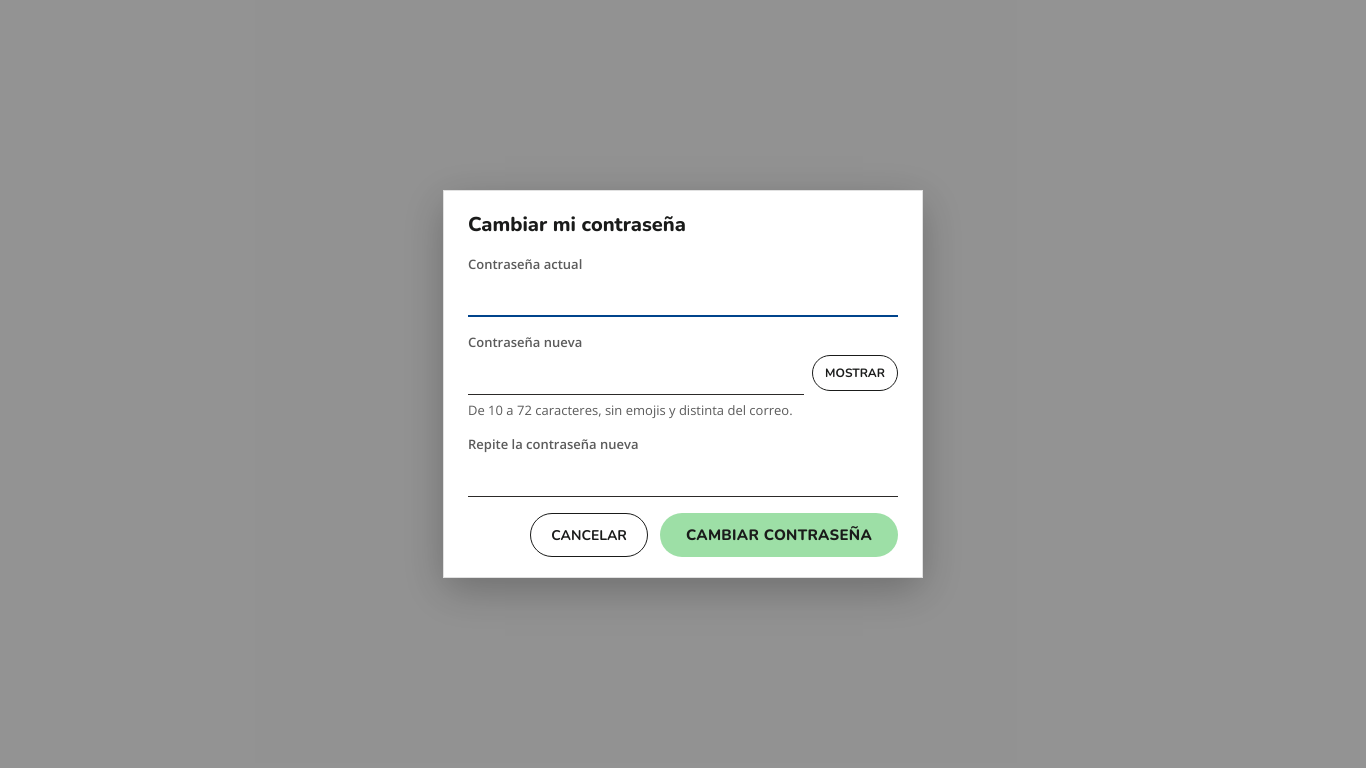
Test: ChangePasswordDialog › aplica la política a la contraseña nueva
The image size is (1366, 768).
Type "actual-clave-1" into the password field labelled "Contraseña actual".
click(683, 295); type("actual-clave-1")  # box [468, 273, 898, 317]
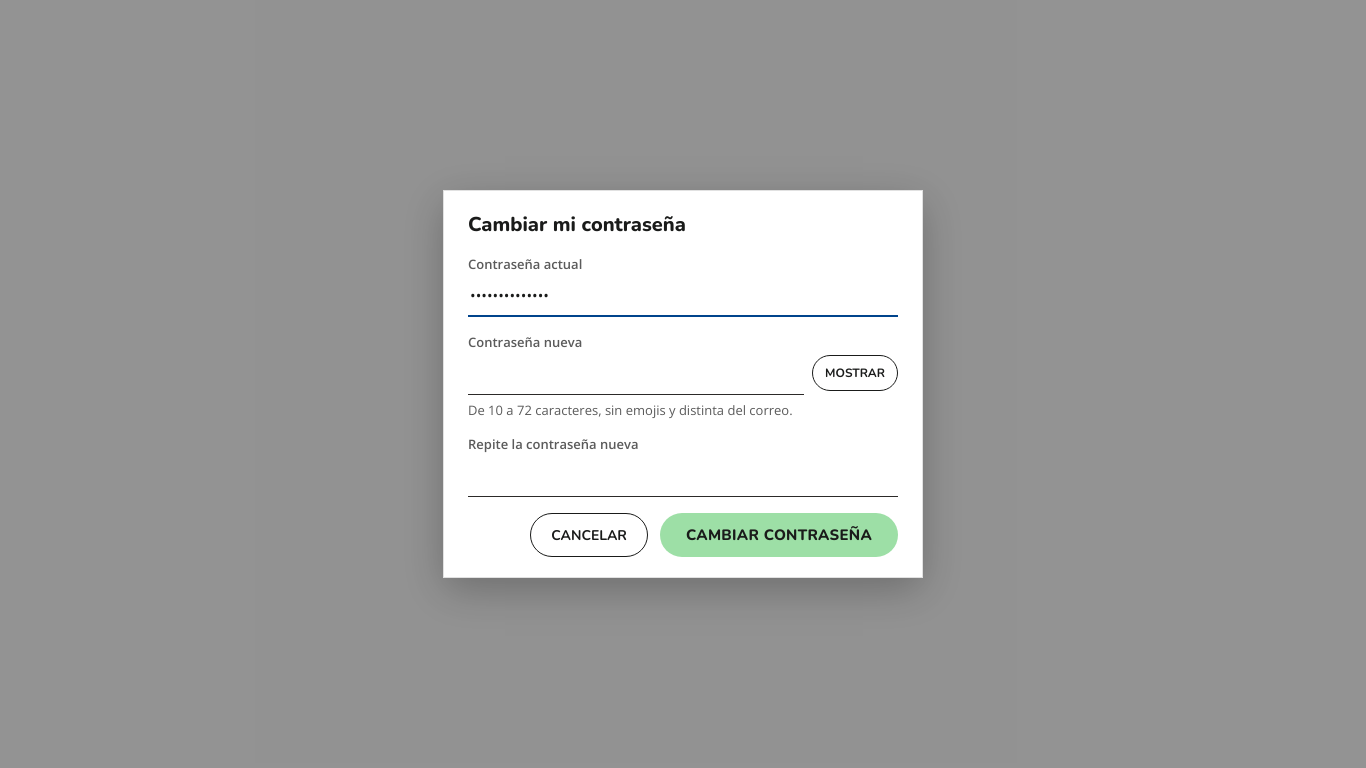
Type "corta" into the password field labelled "Contraseña nueva".
click(636, 373); type("corta")  # box [468, 351, 804, 395]
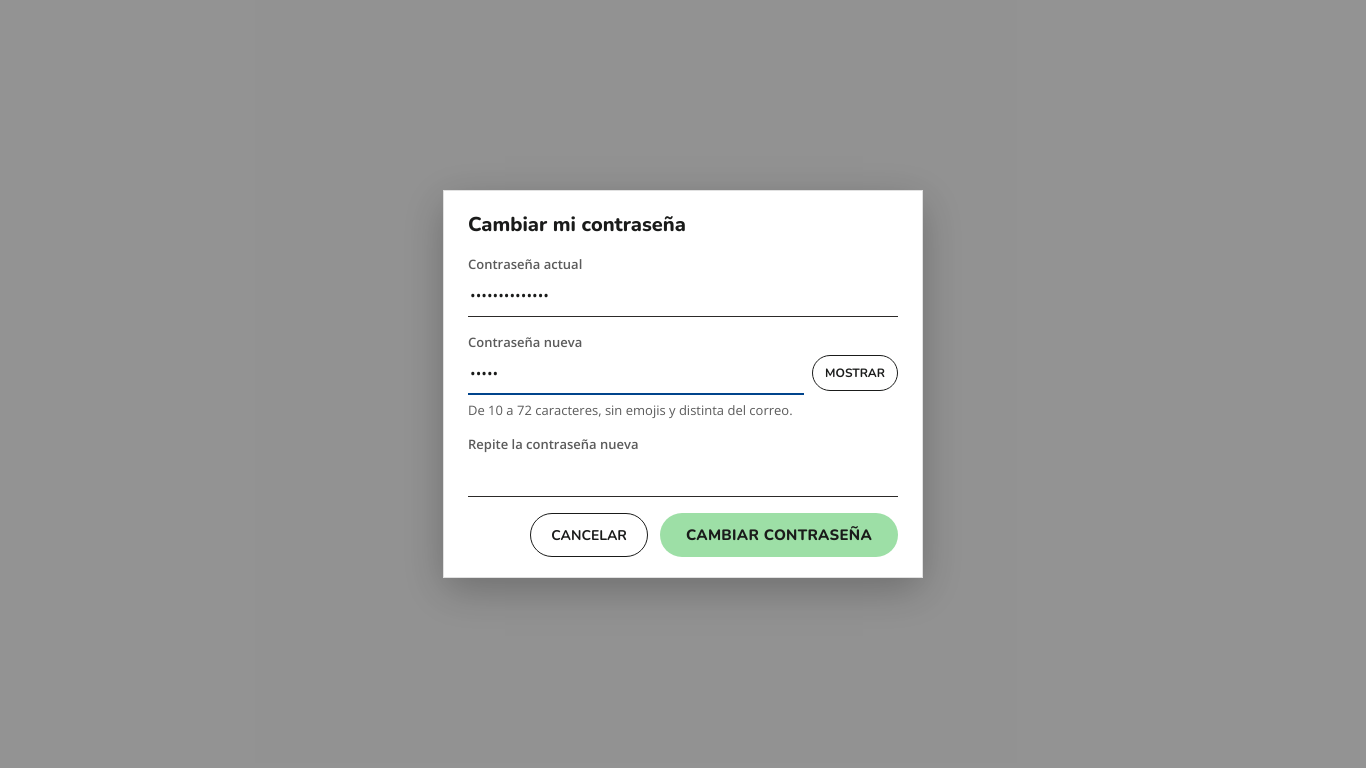
Type "corta" into the password field labelled "Repite la contraseña nueva".
click(683, 475); type("corta")  # box [468, 453, 898, 497]
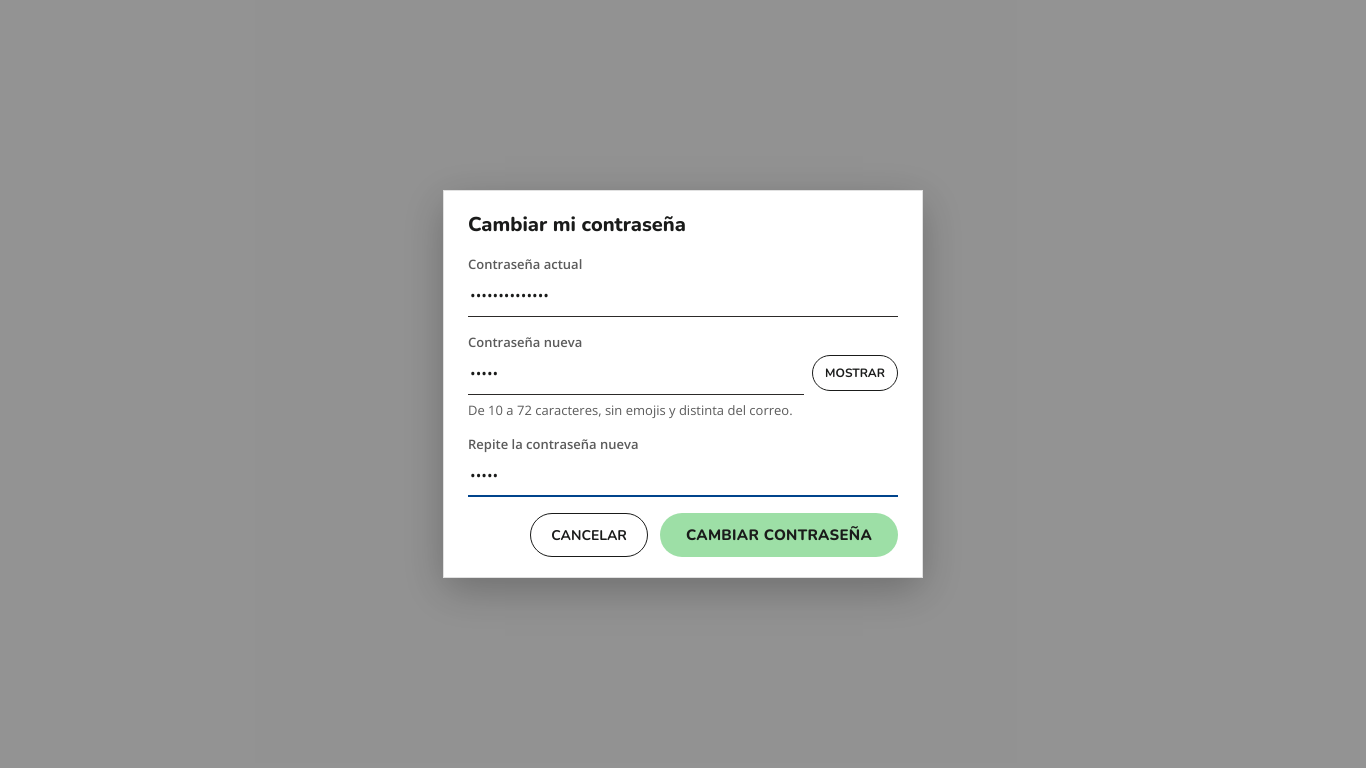
Click the button "Cambiar contraseña".
click(779, 535)  # box [660, 513, 898, 557]
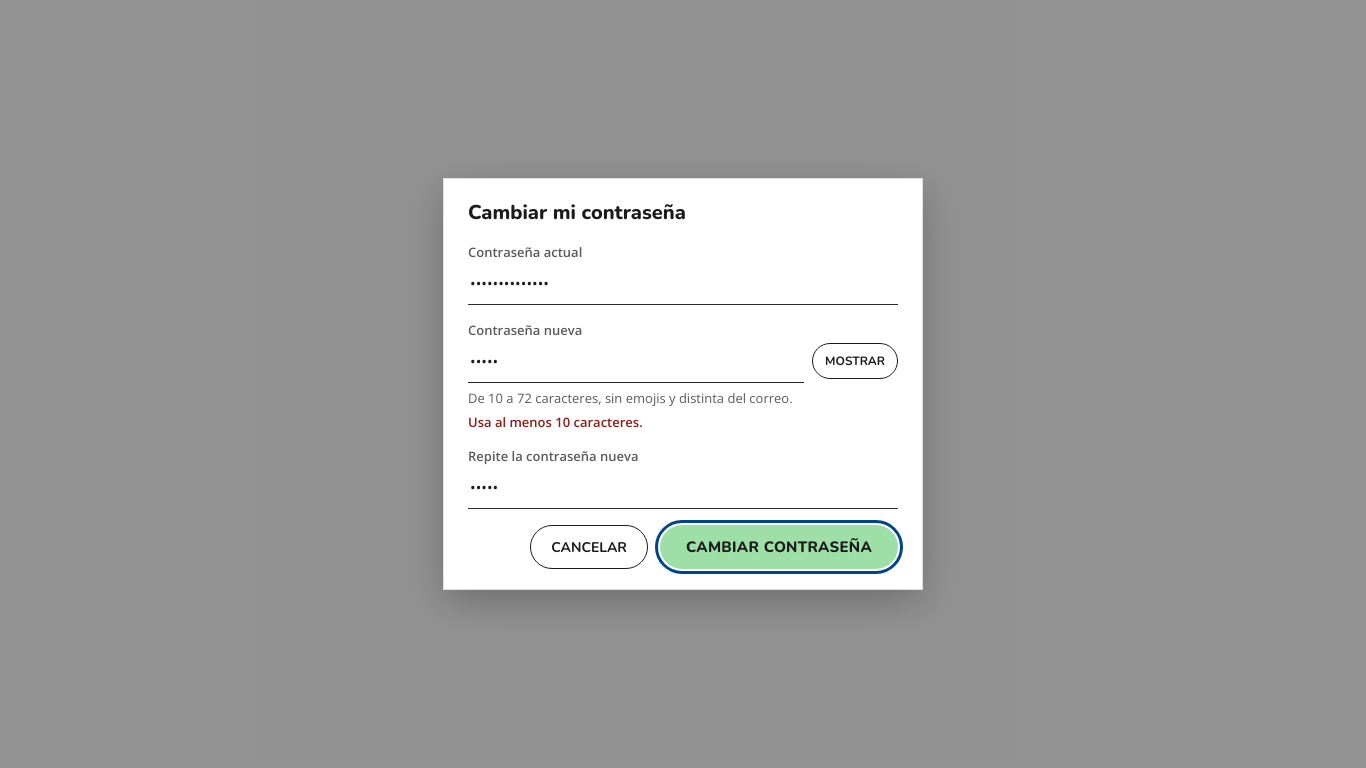
Result: the text "Usa al menos 10 caracteres." is shown at [468, 413, 643, 431]
